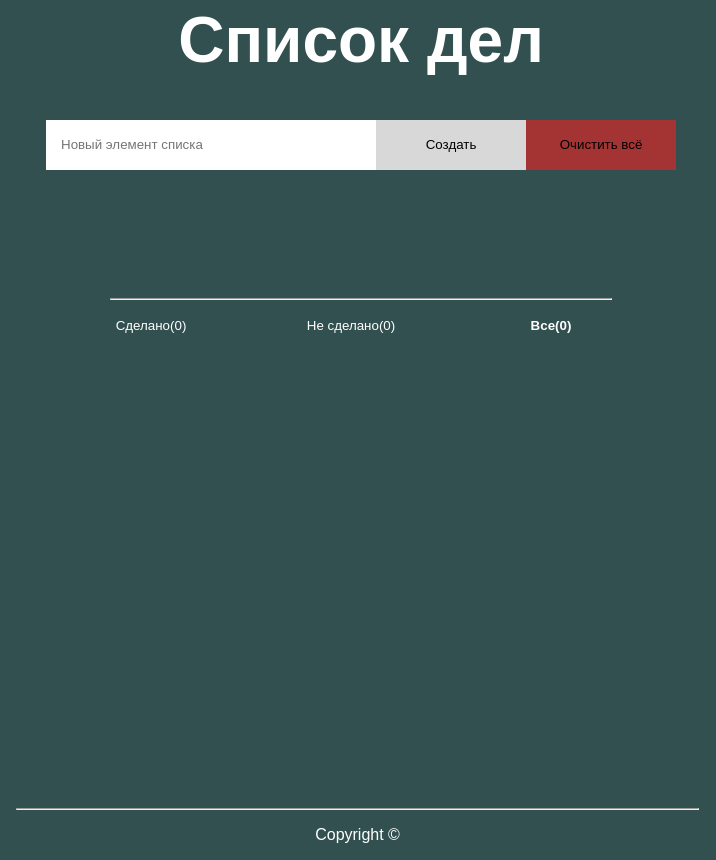
Scenario: Input field functionality › adds a task to the list
Type "Test Task" into the field with placeholder "Новый элемент списка".
click(211, 145); type("Test Task")  # box [46,120,376,170]
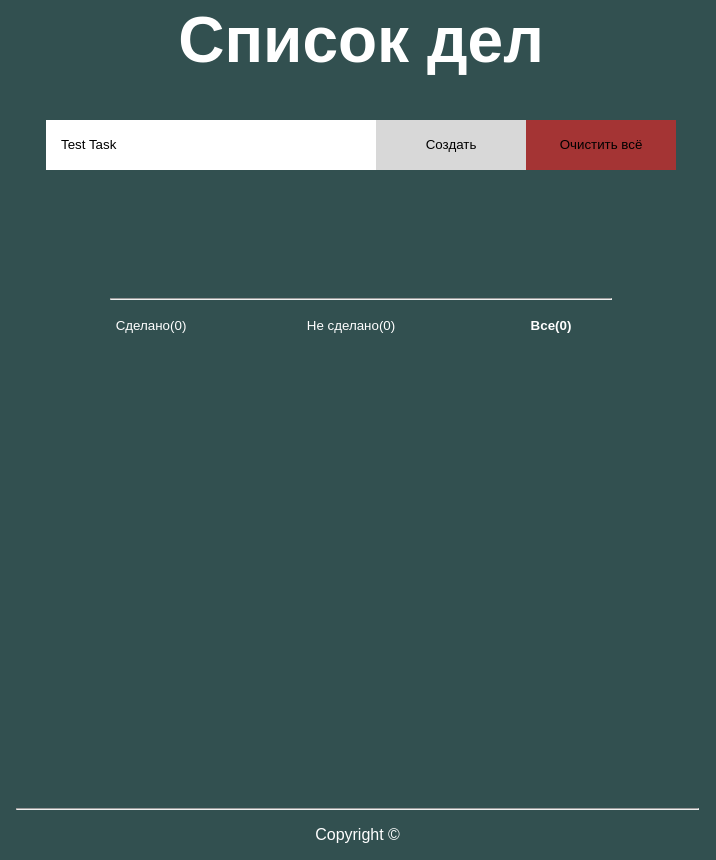
Click the button "Создать".
click(451, 145)  # box [376,120,526,170]
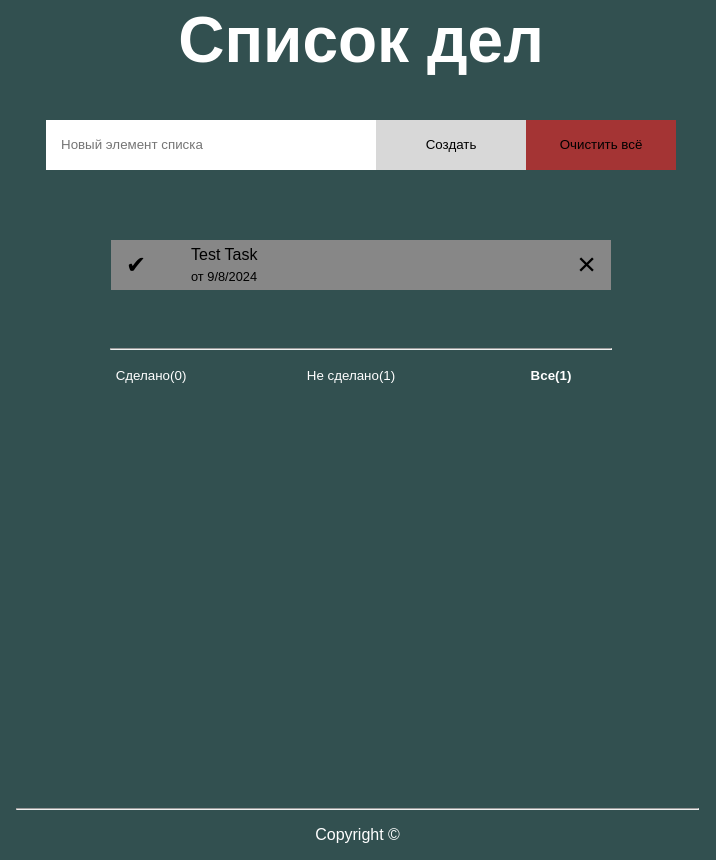
Now the text "Test Task" is shown, box [191,246,257,264]
